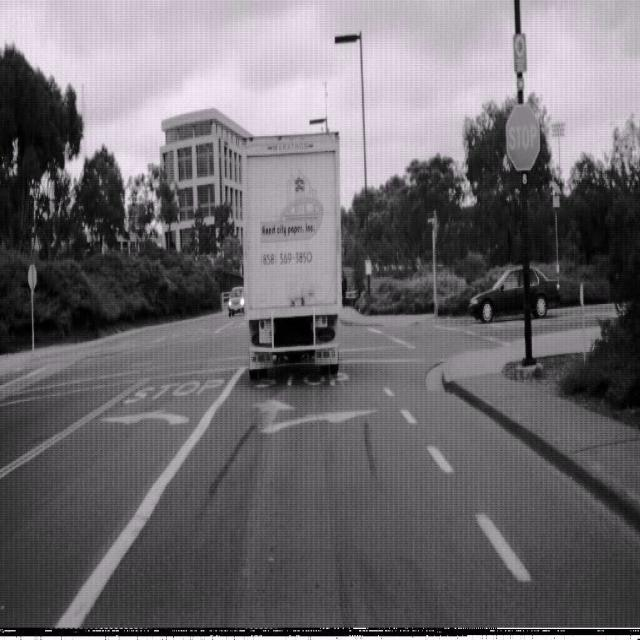stop: (505, 102, 541, 172)
